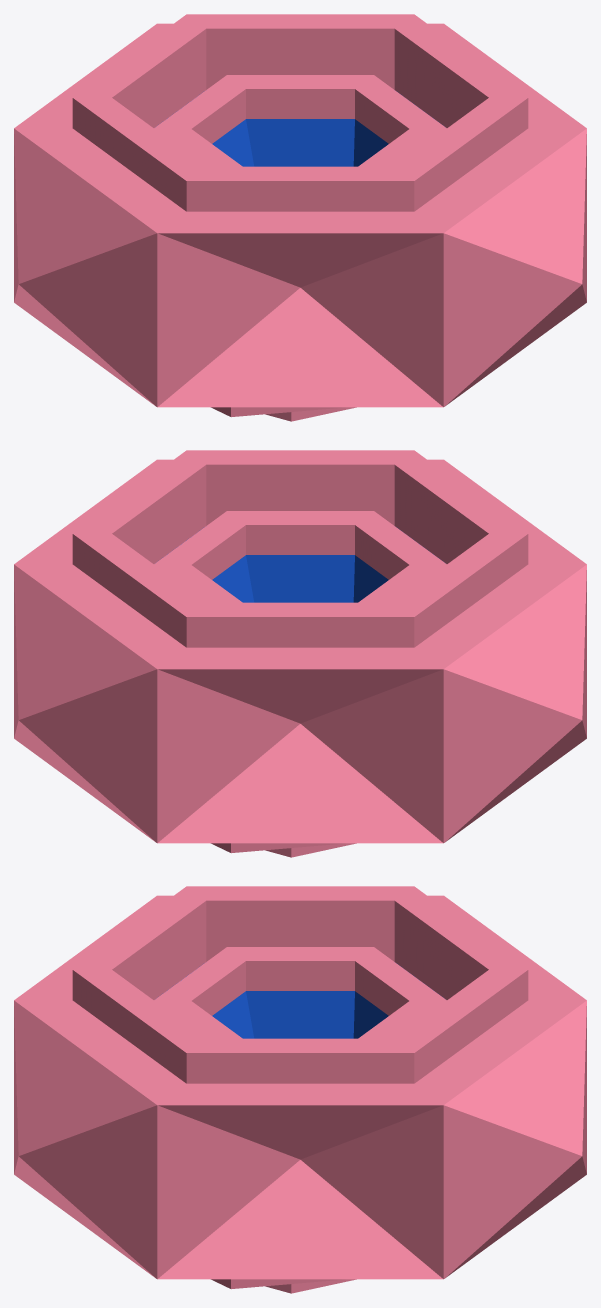
The model's file is enemy2.gltf.
The picture shows the model from 3 angles, top to bottom: view 1: azimuth 30°, elevation 25°; view 2: azimuth 150°, elevation 25°; view 3: azimuth 270°, elevation 25°; orthographic projection.
Parts seen in each view (by area): view 1: outside, lamp; view 2: outside, lamp; view 3: outside, lamp.
Part boxes in pixels (x1=…): outside: x1=14, y1=14, x2=586, y2=421; lamp: x1=167, y1=104, x2=433, y2=166; outside: x1=14, y1=450, x2=586, y2=857; lamp: x1=167, y1=540, x2=433, y2=602; outside: x1=14, y1=886, x2=586, y2=1293; lamp: x1=167, y1=976, x2=433, y2=1038.
Bounding box in the file's own units: 1 × 0.5073 × 1.
